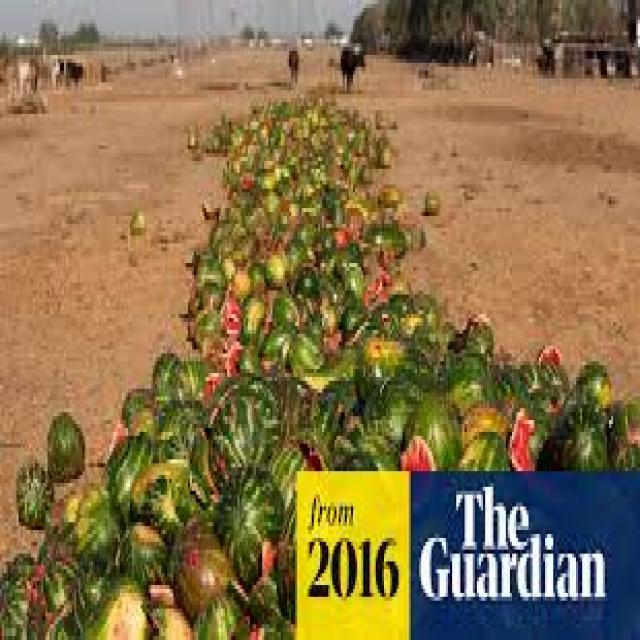food_waste: (63, 437, 292, 613), (156, 362, 610, 449), (259, 131, 375, 449)
